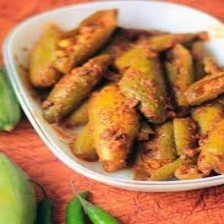sabzi: (22, 11, 224, 183)
